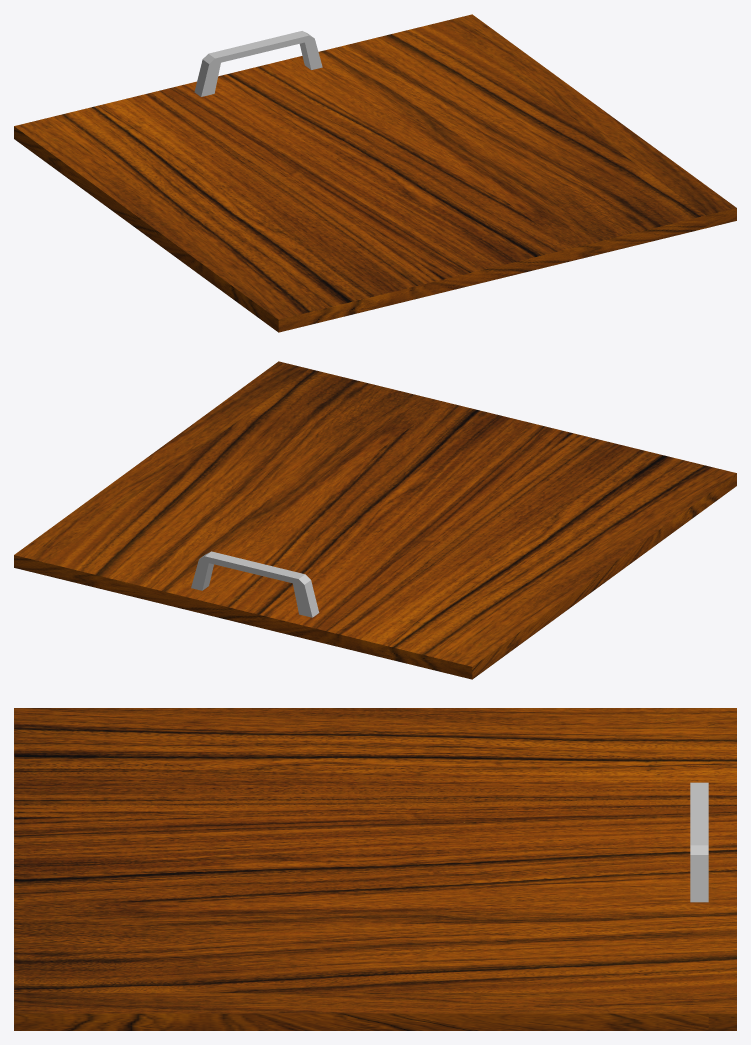
File: trapdoor.fbx
3 renders of one model, top to bottom at view 1: azimuth 30°, elevation 25°; view 2: azimuth 150°, elevation 25°; view 3: azimuth 270°, elevation 25°, orthographic. The views are drawn at different scales.
Parts seen in each view (by area): view 1: Cube; view 2: Cube; view 3: Cube.
Part boxes in pixels (x1,y1,x2,y2): Cube: [14, 14, 736, 332]; Cube: [14, 361, 736, 679]; Cube: [14, 708, 736, 1030].
Size of the model in its own units: 1.8 by 0.18 by 1.8.
